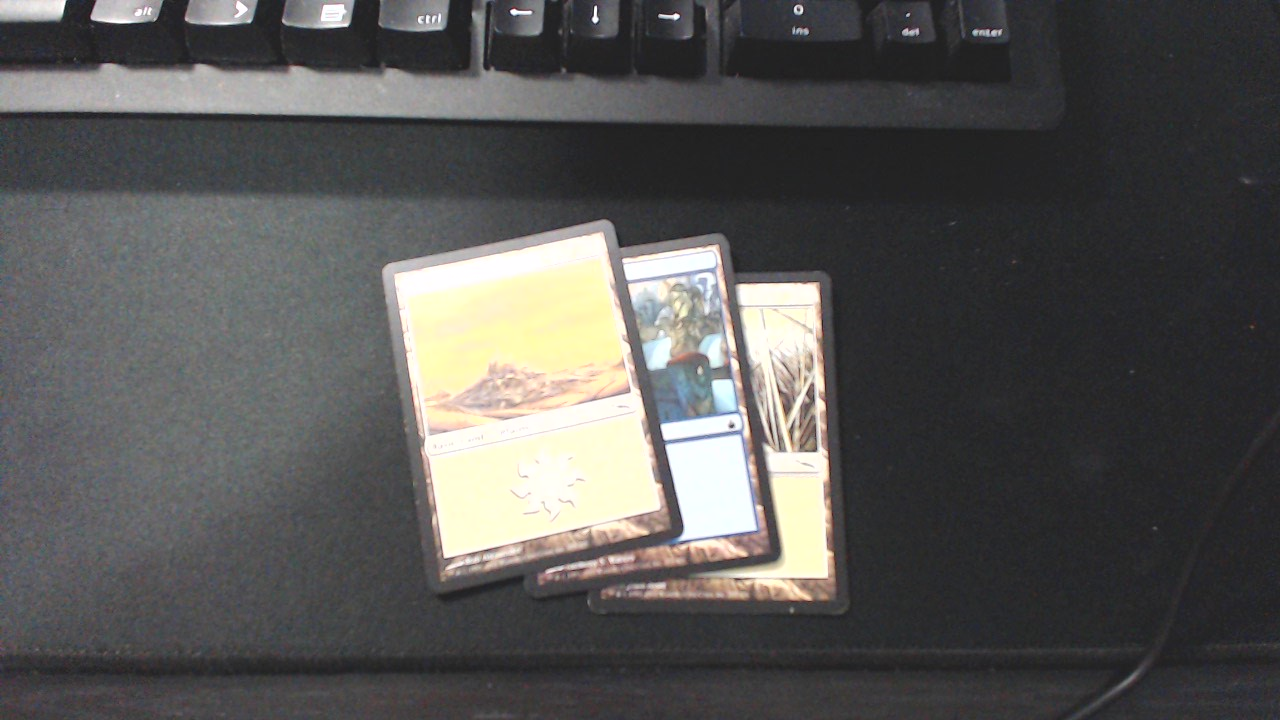MTG Card: (376, 217, 685, 600), (520, 230, 782, 601), (579, 265, 853, 619)
